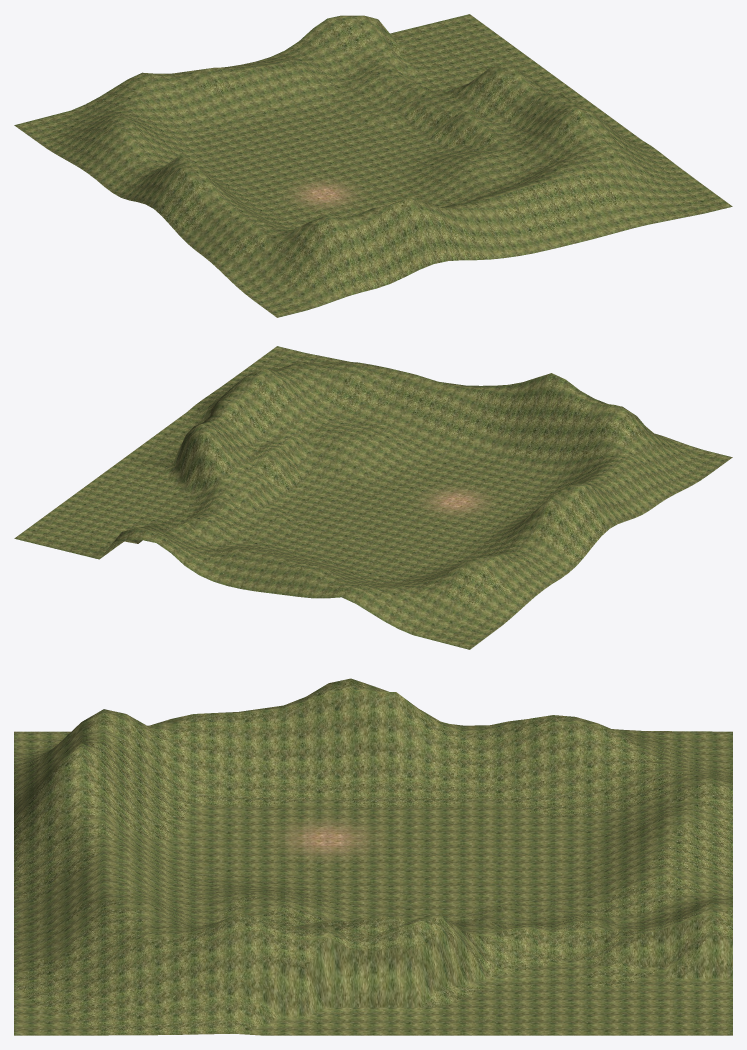
3 renders of one model, top to bottom at view 1: azimuth 30°, elevation 25°; view 2: azimuth 150°, elevation 25°; view 3: azimuth 270°, elevation 25°, orthographic. The views are drawn at different scales.
Visible parts, largest first — view 1: Mesh; view 2: Mesh; view 3: Mesh.
Part boxes in pixels (x1=…): Mesh: x1=14, y1=14, x2=732, y2=317; Mesh: x1=14, y1=346, x2=732, y2=649; Mesh: x1=14, y1=678, x2=732, y2=1035.
Bounding box in the file's own units: 500 × 67.19 × 500.
Materials: 1 (1 with a texture image).
